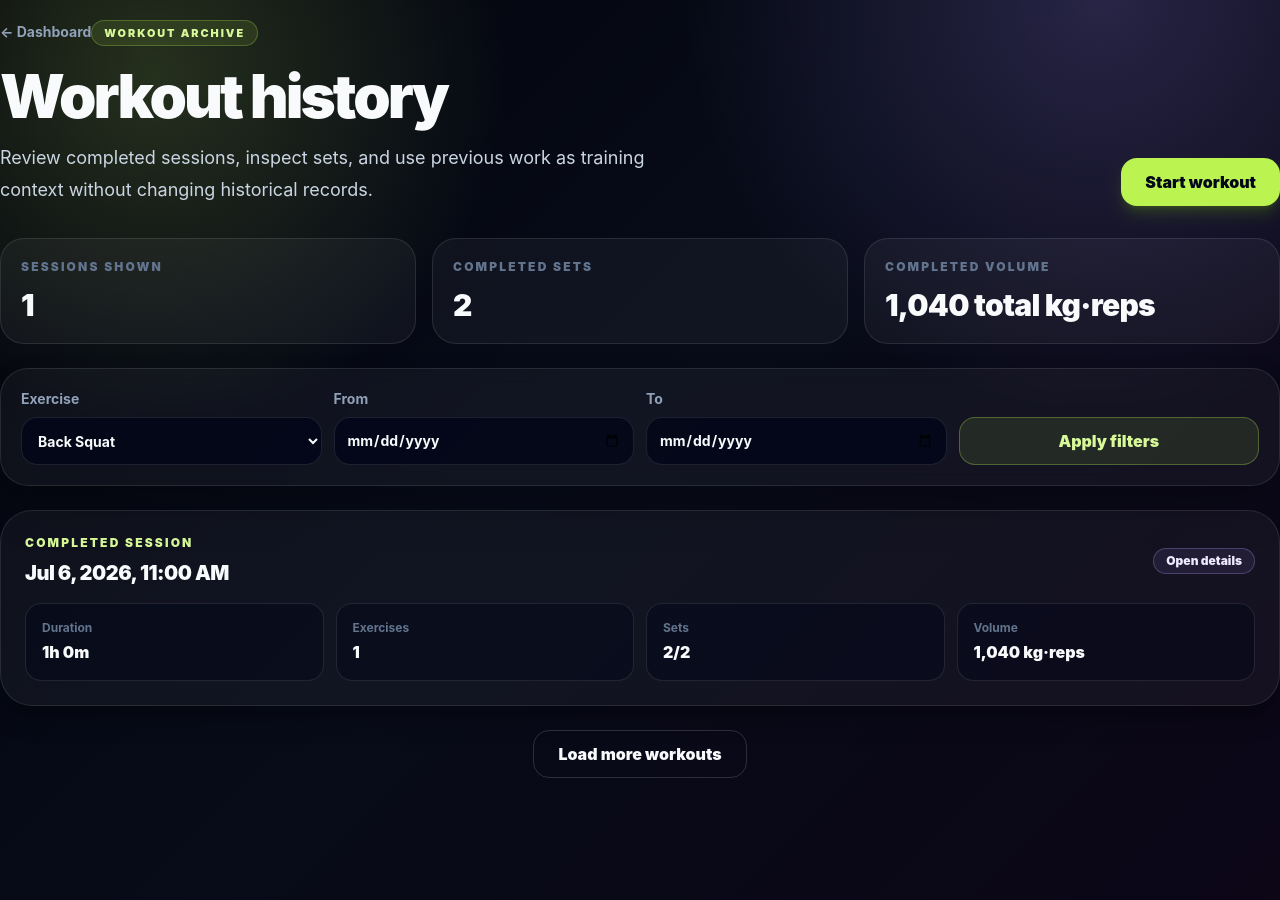
Test: WorkoutHistoryScreen › loads the next cursor page without replacing existing history
Click the button "Load more workouts" at [640, 754], box [533, 730, 747, 778]
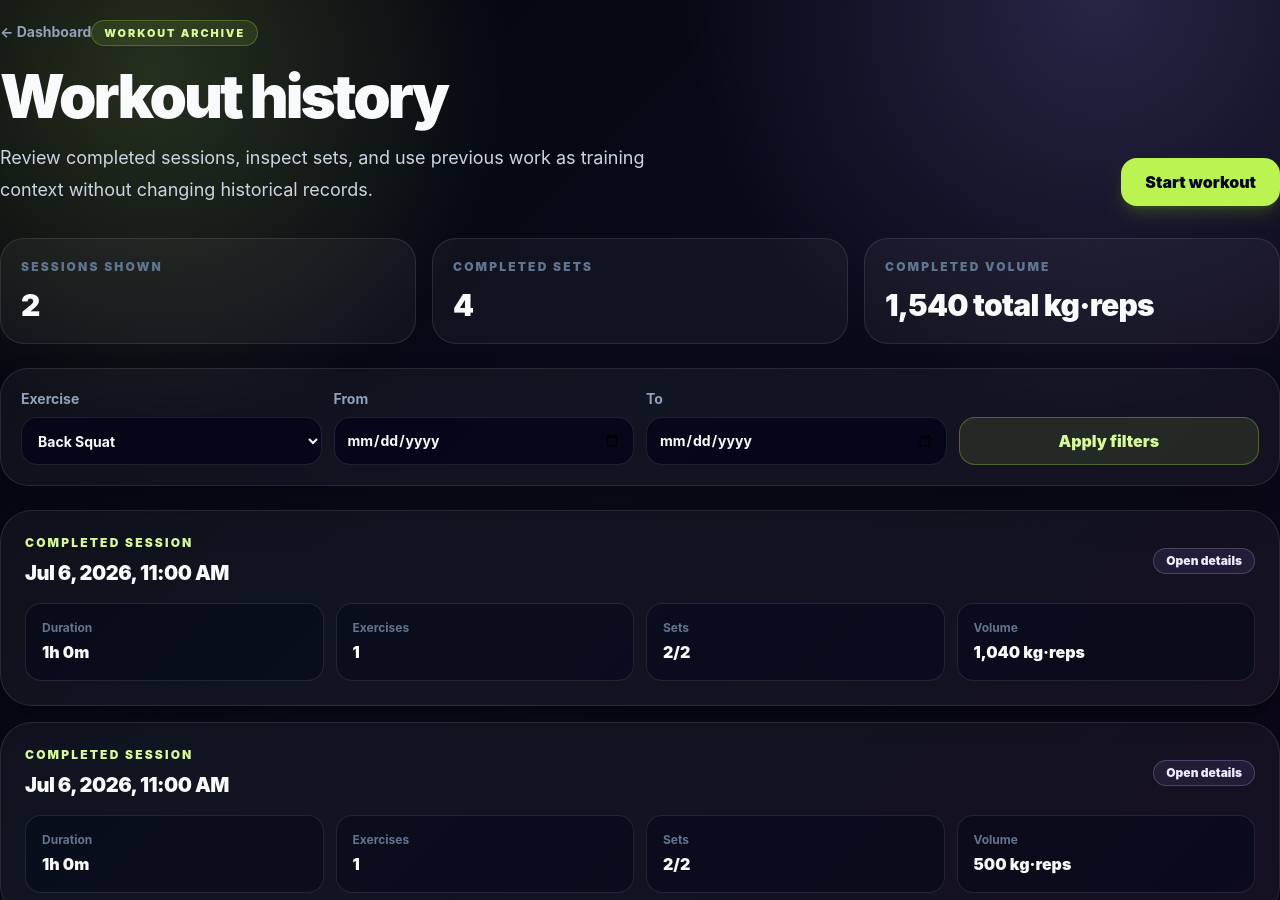
Expected: the text "1,040 kg·reps" is shown, [974, 642, 1085, 662]
Result: the text "500 kg·reps" is shown at [974, 854, 1071, 874]
